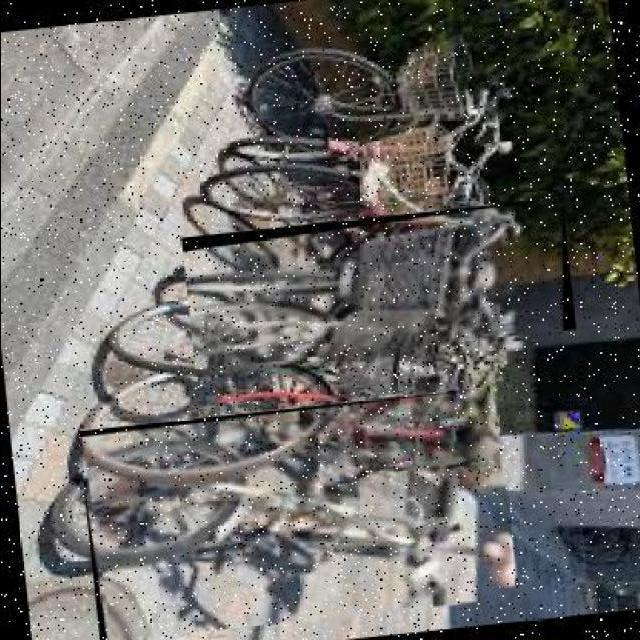bicycle: (76, 387, 518, 640), (180, 199, 576, 371)
